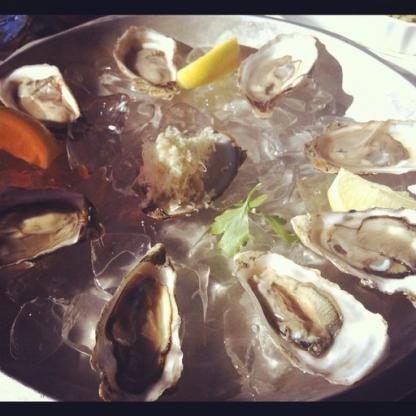oyster: (240, 246, 393, 383), (95, 246, 189, 409), (294, 202, 415, 303), (0, 187, 107, 261), (310, 113, 416, 182), (238, 32, 317, 110), (3, 61, 86, 133), (112, 24, 176, 113)
